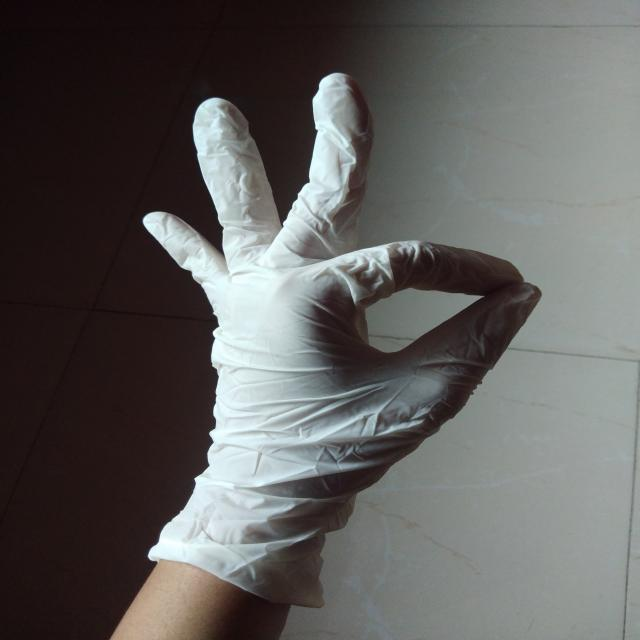Gloves: (117, 71, 548, 617)
